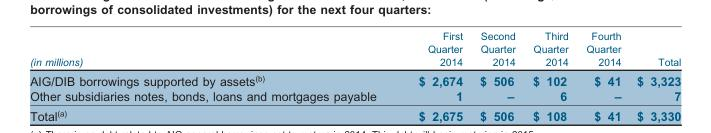table: (29, 29, 680, 102)
table column: (29, 29, 396, 102), (396, 29, 470, 102), (470, 29, 523, 102), (523, 29, 576, 102), (576, 29, 628, 102), (628, 29, 680, 102)
table column header: (29, 29, 680, 70)
table row: (29, 29, 680, 70), (29, 70, 680, 87), (29, 87, 680, 102)
